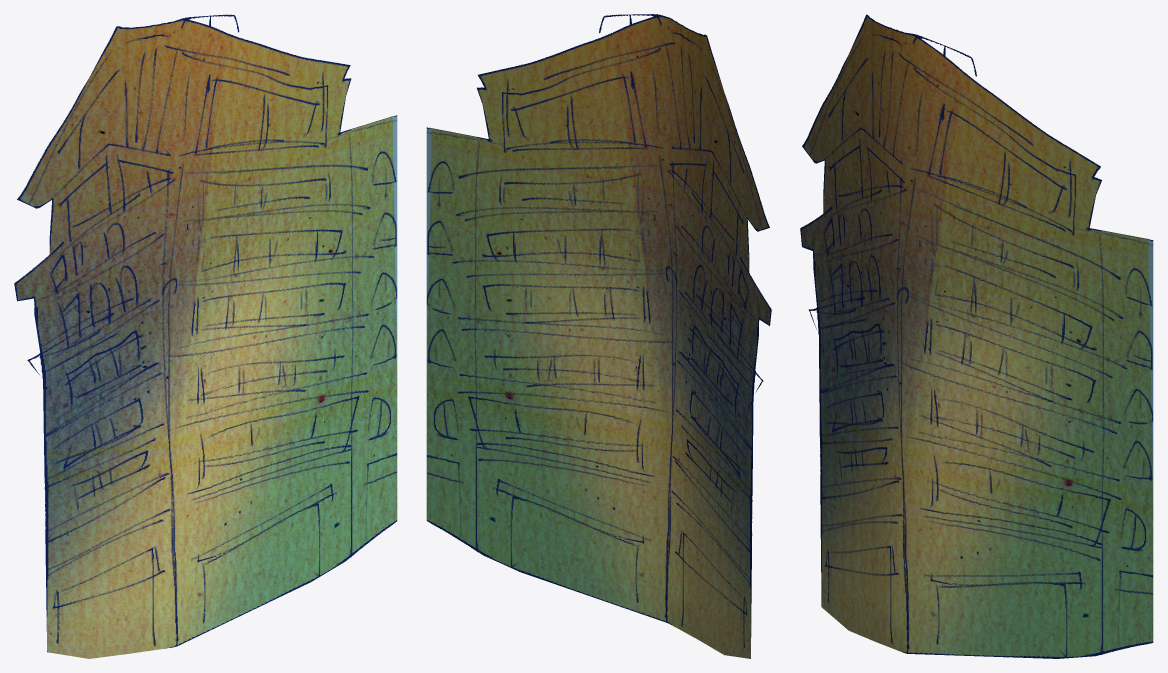
File: 01_mid_bld_04.fbx
3 views of the same model, side by side, from view 1: azimuth 30°, elevation 25°; view 2: azimuth 150°, elevation 25°; view 3: azimuth 330°, elevation 25° (orthographic). The views are drawn at different scales.
Parts seen in each view (by area): view 1: 房子_中景_04; view 2: 房子_中景_04; view 3: 房子_中景_04.
Part boxes in pixels (x1=…): 房子_中景_04: x1=14, y1=14, x2=397, y2=658; 房子_中景_04: x1=426, y1=14, x2=771, y2=658; 房子_中景_04: x1=800, y1=14, x2=1153, y2=658.
Bounding box in the file's own units: 47.61 × 77.63 × 6.08.
1 material, 1 textured.
